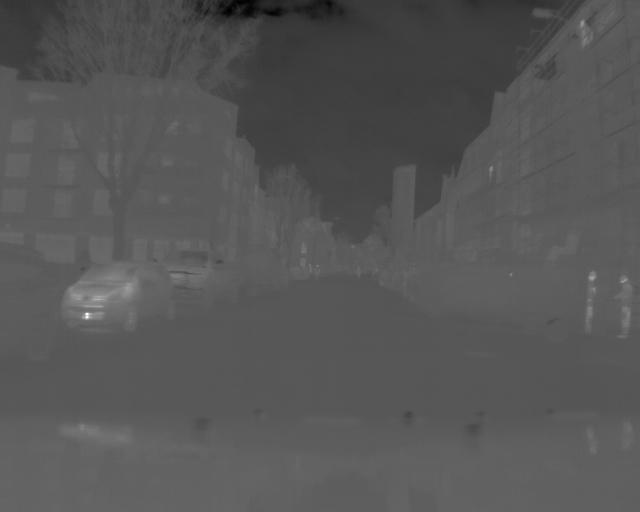car: (61, 265, 175, 324), (185, 250, 236, 309), (250, 253, 292, 291)
person: (615, 265, 635, 335), (589, 268, 602, 328)
